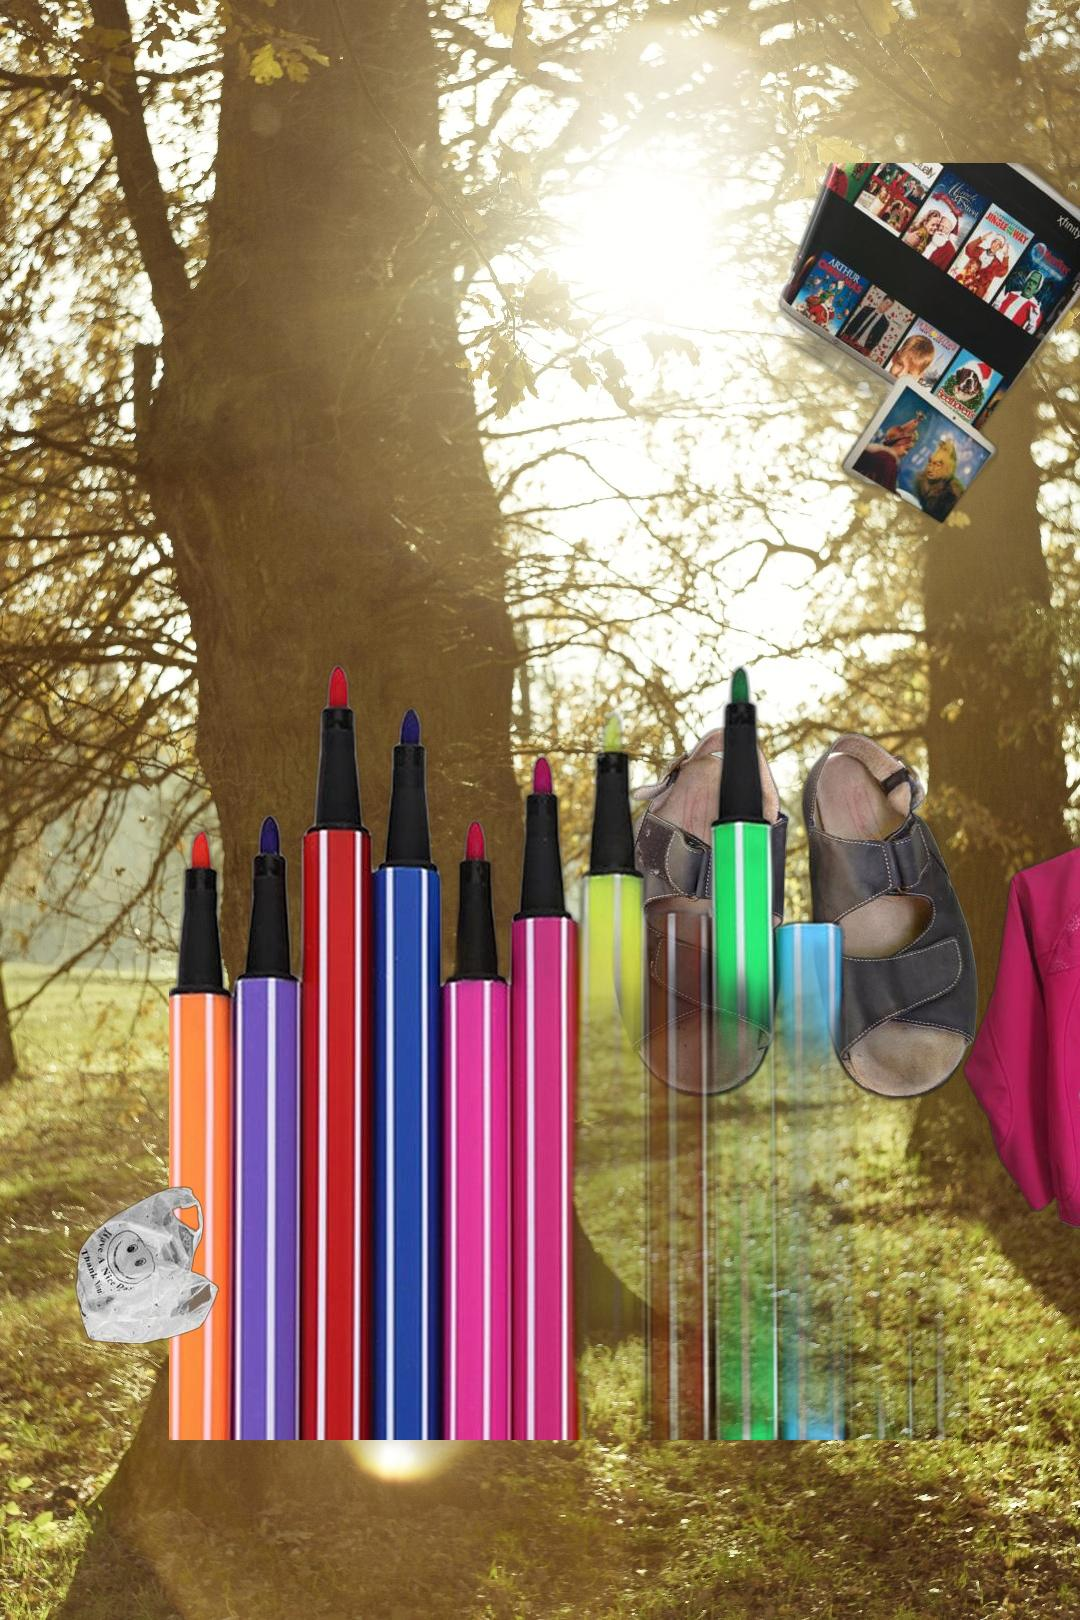clothes: (959, 762, 1080, 1258)
metal-cans: (1049, 294, 1080, 757)
paper: (769, 163, 1080, 547)
penholder: (169, 657, 969, 1440)
plastic-bag: (74, 1184, 222, 1345)
shoes: (609, 723, 984, 1103)
